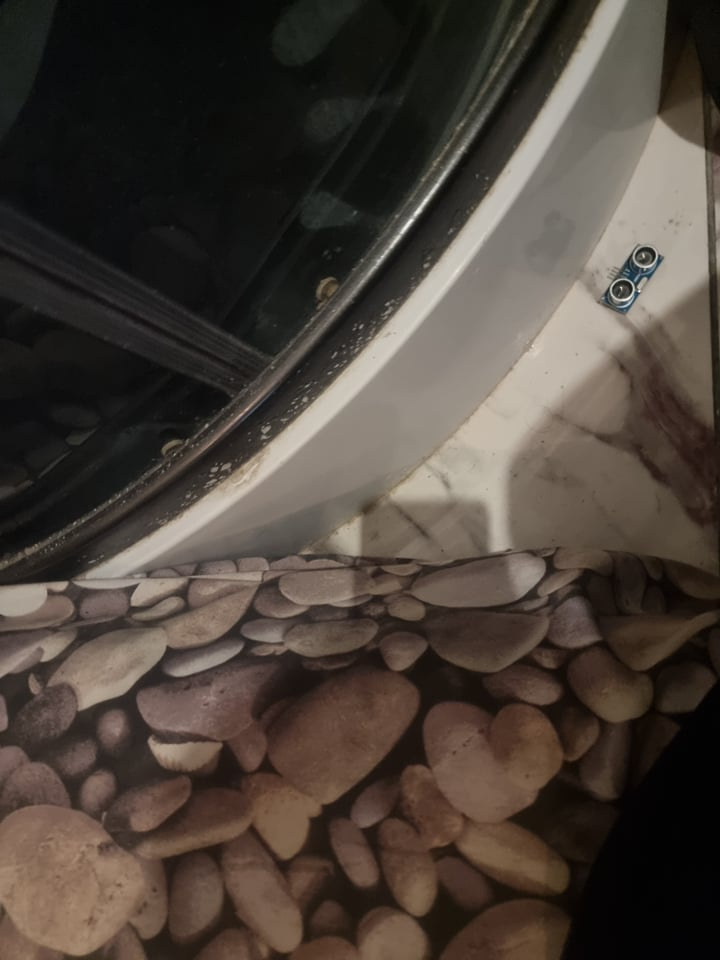SENSOR: (598, 242, 666, 314)
